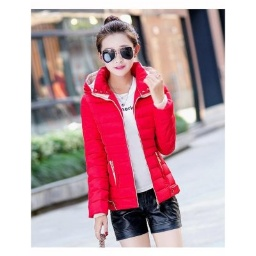face: (91, 16, 142, 77)
